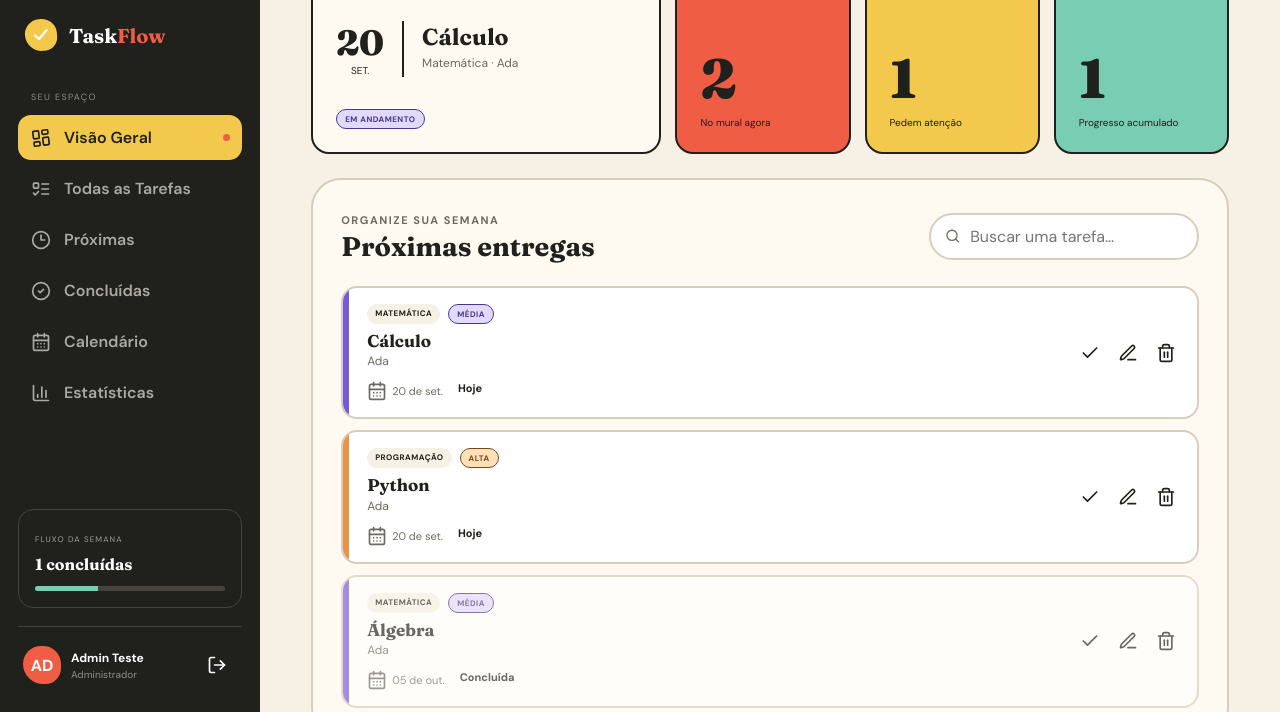
Test: App tarefas e visualizações › conclui, reabre e trata falha de PATCH
(page scrolled)
Check: the text "Admin Teste" is shown, box top-left (71, 650), bottom-right (144, 666)
Click the 1st button named "Concluir tarefa": (1090, 353) top-left (1071, 334), bottom-right (1109, 372)
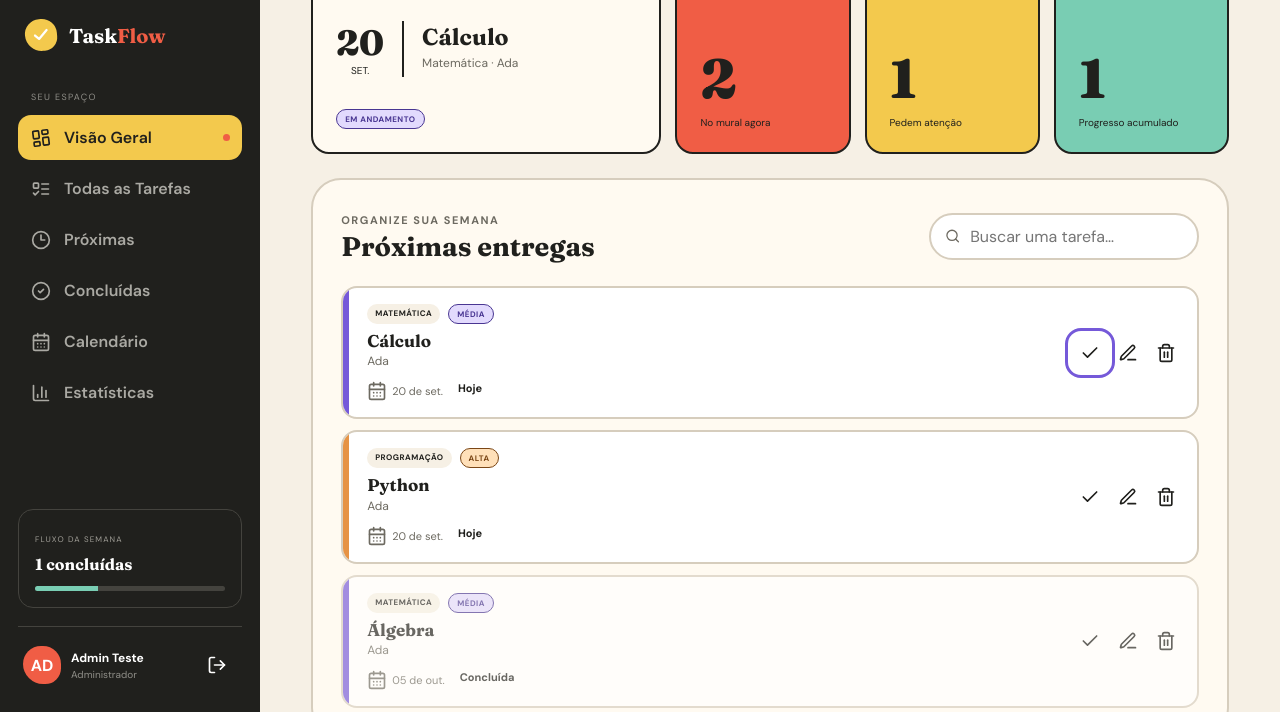
Click the button named "Reabrir tarefa": (1090, 641) top-left (1071, 622), bottom-right (1109, 660)
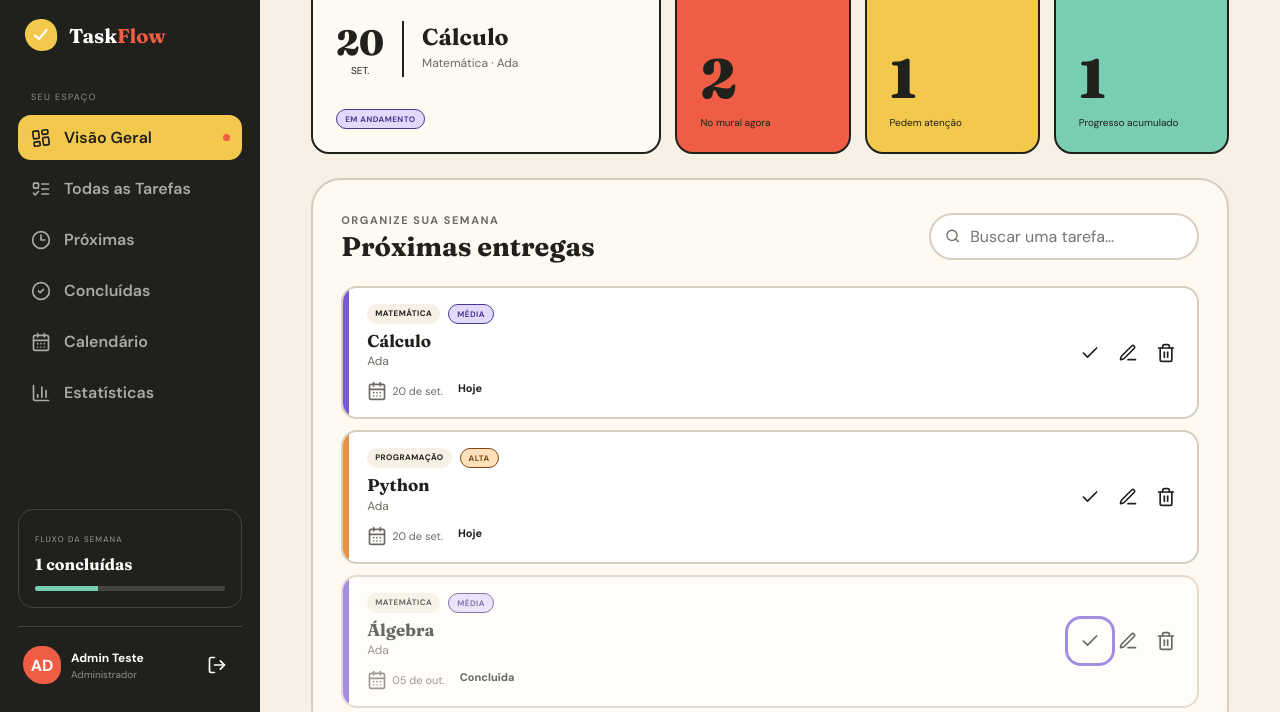
Click the 1st button named "Concluir tarefa": (1090, 353) top-left (1071, 334), bottom-right (1109, 372)
(page scrolled)
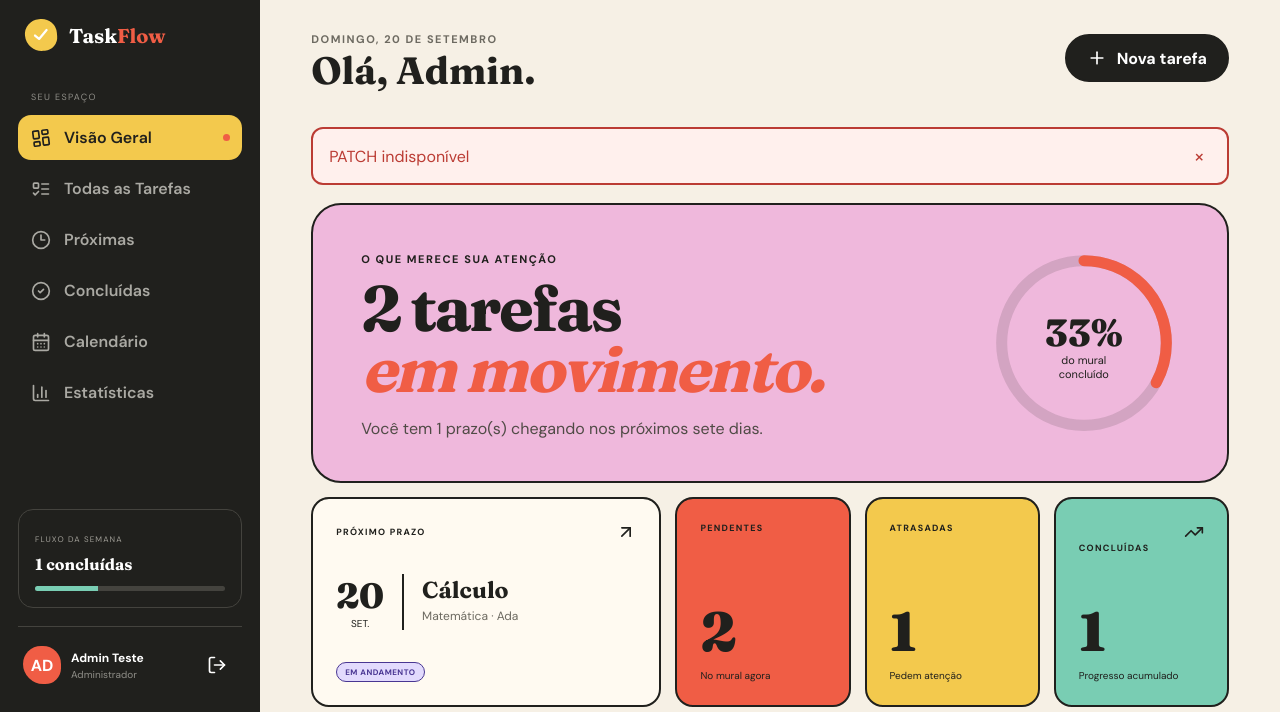
Check: the message shows "PATCH indisponível", box top-left (329, 146), bottom-right (469, 167)
